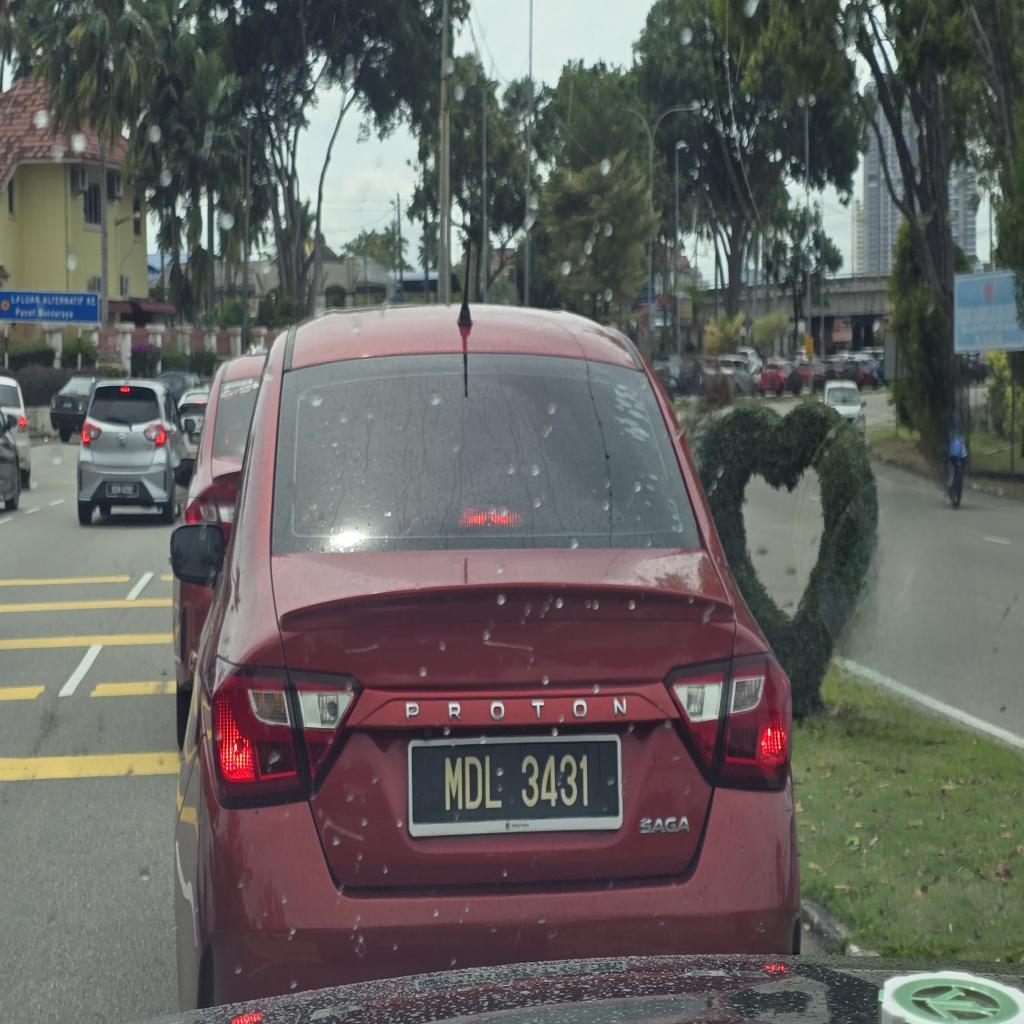car: (172, 306, 801, 1007)
car plate: (409, 735, 622, 836)
